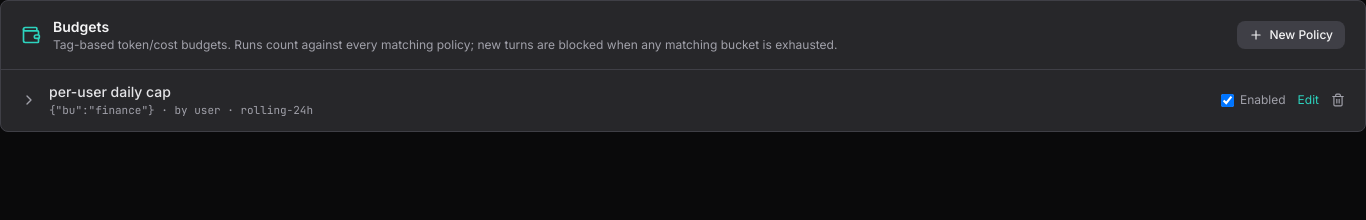
it: BudgetsSection › loads and renders spend meters on expand
The width and height of the screenshot is (1366, 220).
Step 1. Click the button named "Toggle spend for per-user daily cap" → (29, 100), box [21,92,37,108]
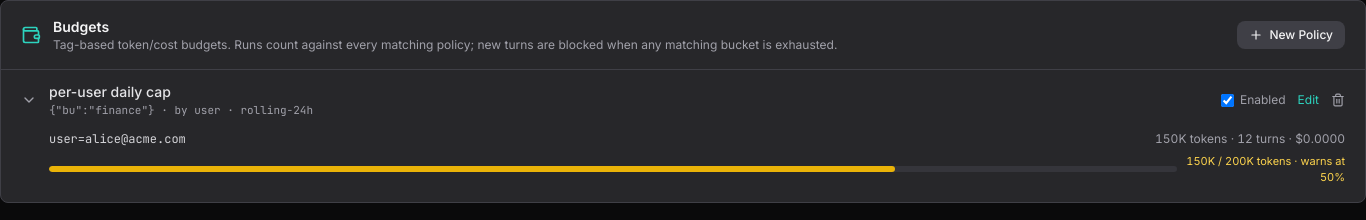
Check: the text "user=alice@acme.com" is shown, box [49,130,186,146]
Check: the text "150K / 200K tokens" is shown, box [1185,152,1345,186]
